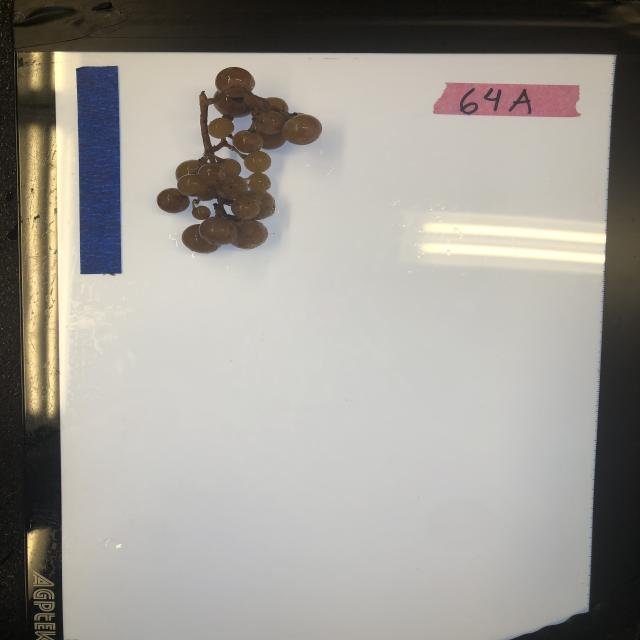grape_cluster: (149, 64, 325, 256)
index: (432, 81, 582, 117)
measure_label: (76, 63, 124, 274)
